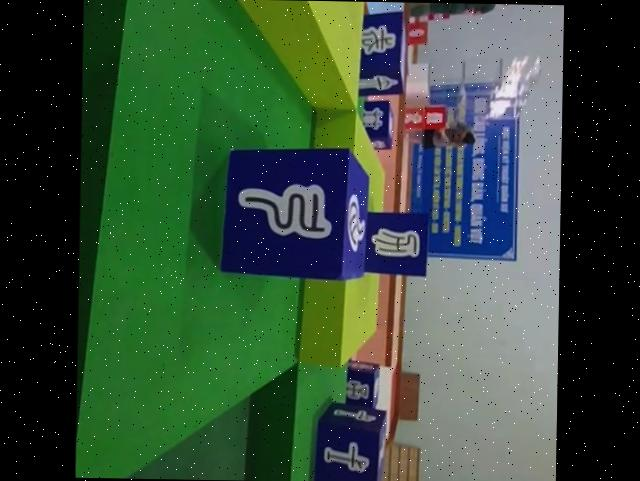R2 Fake Blue: (216, 144, 371, 280), (361, 213, 430, 278), (360, 11, 409, 97)
R2 Real Blue: (310, 400, 386, 481), (345, 356, 379, 407), (363, 99, 396, 150)
